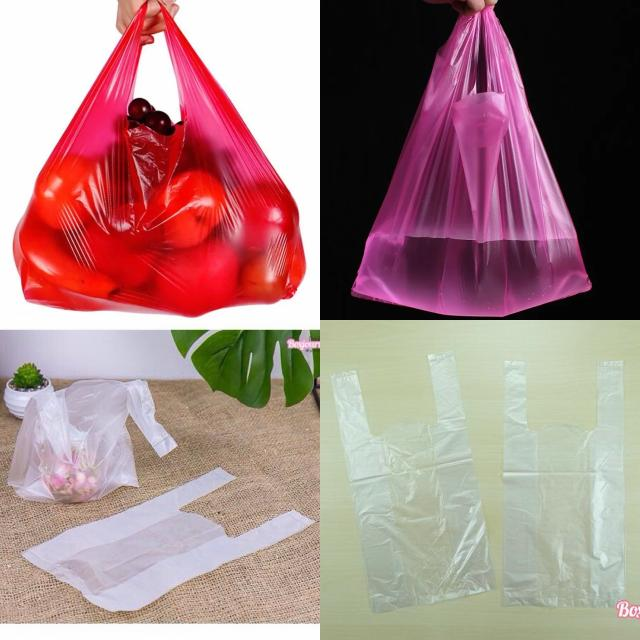Single-layer Plastic: (14, 8, 305, 316), (352, 9, 590, 316), (331, 354, 494, 612), (22, 469, 312, 611), (502, 361, 625, 608), (8, 380, 176, 502)
